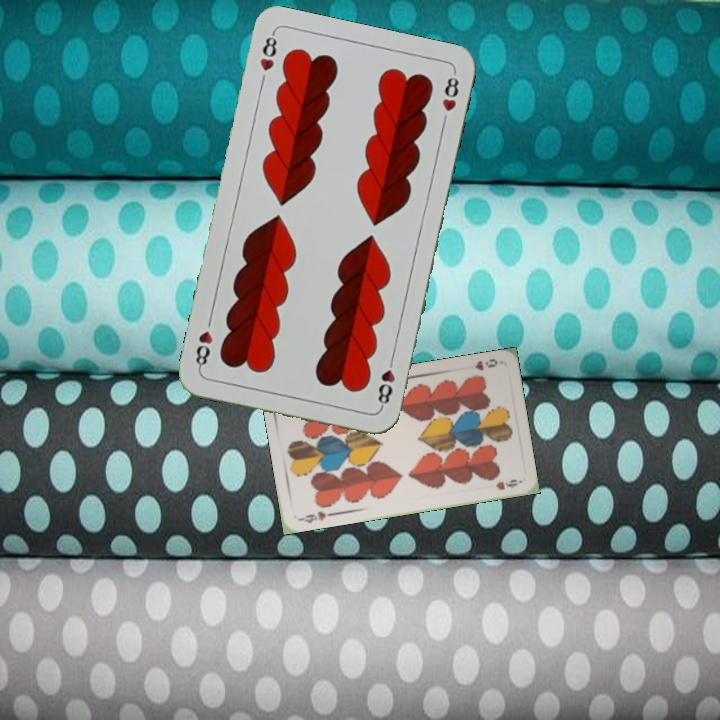H8: (373, 352, 398, 411), (255, 29, 280, 88)
H9: (296, 507, 328, 526), (471, 355, 500, 373)
